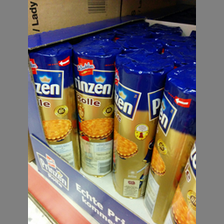chocolate: (114, 52, 171, 197), (147, 65, 195, 221), (28, 41, 80, 169), (73, 38, 117, 178)
